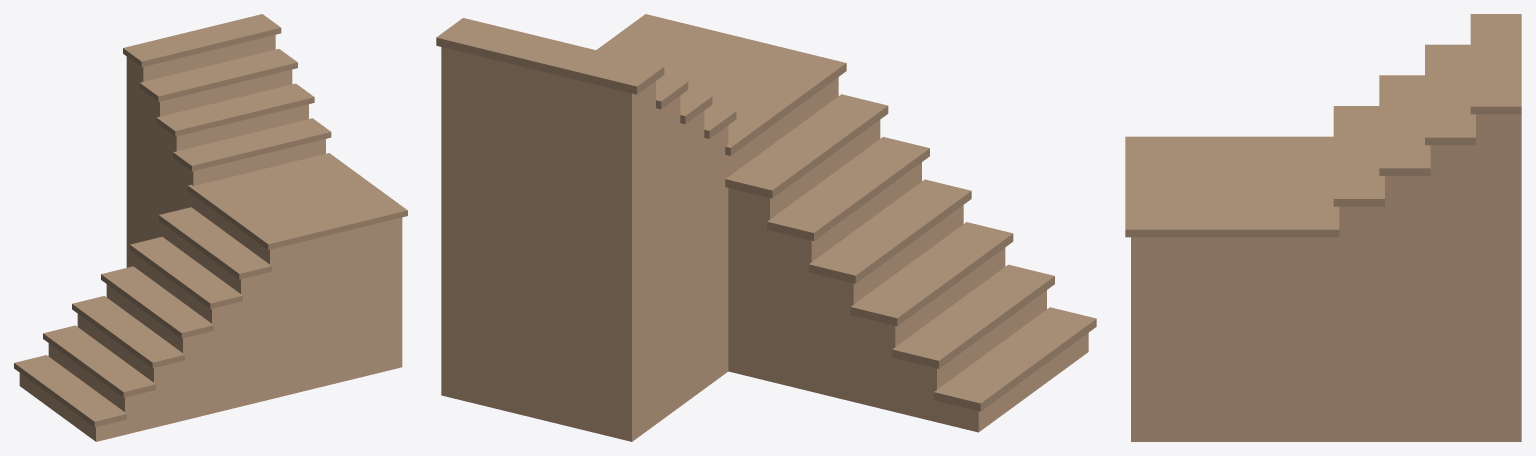
Rendered from stairsCorner.glb.
3 renders of one model, left to right at view 1: azimuth 30°, elevation 25°; view 2: azimuth 150°, elevation 25°; view 3: azimuth 270°, elevation 25°, orthographic. The views are drawn at different scales.
Visible parts, largest first — view 1: stairsCorner; view 2: stairsCorner; view 3: stairsCorner.
Part boxes in pixels (bbox=[...]): stairsCorner: bbox=[14, 14, 407, 441]; stairsCorner: bbox=[436, 14, 1096, 441]; stairsCorner: bbox=[1125, 14, 1521, 441].
Size of the model in its own units: 1.77 by 1.34 by 1.43.
